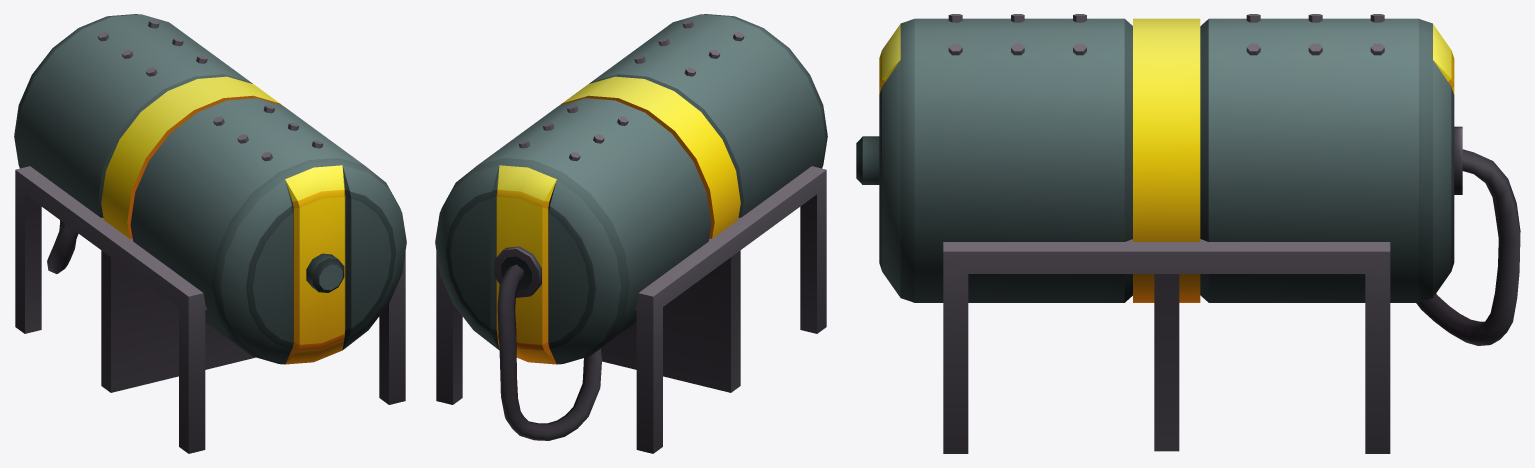
File: Gas_Tank_1B.fbx
3 renders of one model, left to right at view 1: azimuth 30°, elevation 25°; view 2: azimuth 150°, elevation 25°; view 3: azimuth 270°, elevation 25°, orthographic. The views are drawn at different scales.
Parts seen in each view (by area): view 1: Gas_Tank_1B; view 2: Gas_Tank_1B; view 3: Gas_Tank_1B.
Boxes of the visible parts, <box> form: Gas_Tank_1B: <box>14,14,406,453</box>; Gas_Tank_1B: <box>435,14,827,453</box>; Gas_Tank_1B: <box>856,14,1520,453</box>.
Bounding box in the file's own units: 260 × 316 × 535.
